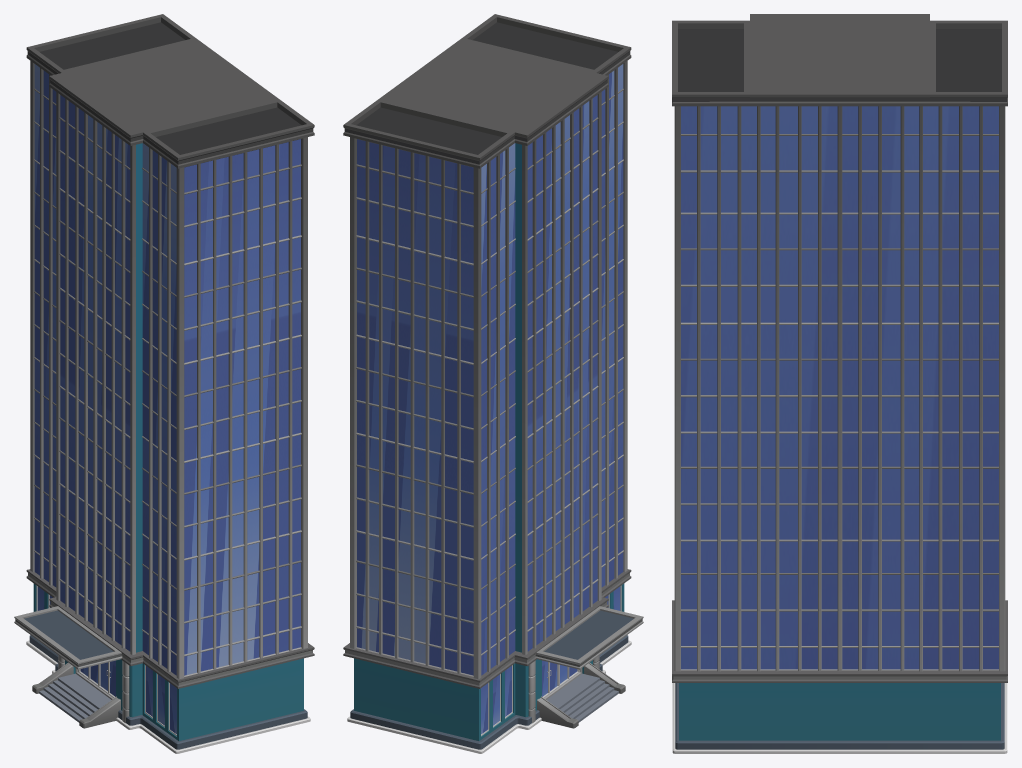
The model's file is Building_17_3_JJ.glb.
The picture shows the model from 3 angles, left to right: view 1: azimuth 30°, elevation 25°; view 2: azimuth 150°, elevation 25°; view 3: azimuth 270°, elevation 25°; orthographic projection. The views are drawn at different scales.
Parts seen in each view (by area): view 1: Building_17_3_JJ; view 2: Building_17_3_JJ; view 3: Building_17_3_JJ.
Part boxes in pixels (x1,y1,x2,y2): Building_17_3_JJ: (14,14,314,753); Building_17_3_JJ: (343,14,643,753); Building_17_3_JJ: (672,14,1007,753).
Size of the model in its own units: 8.57 by 25.36 by 11.68.
Materials: 4 (4 with a texture image).
